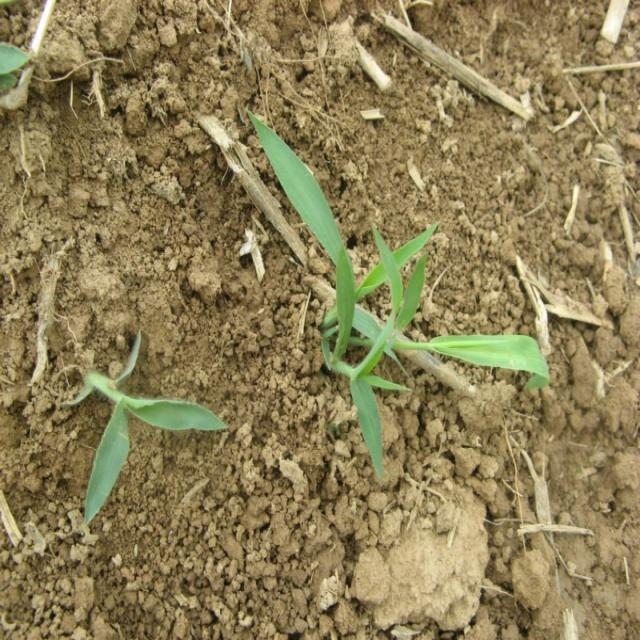bg: (246, 108, 555, 470)
